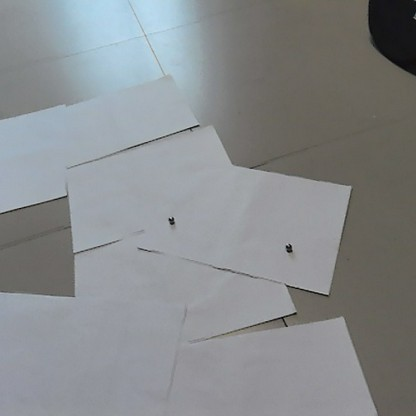ironball: (282, 241, 292, 254), (166, 213, 176, 225)
